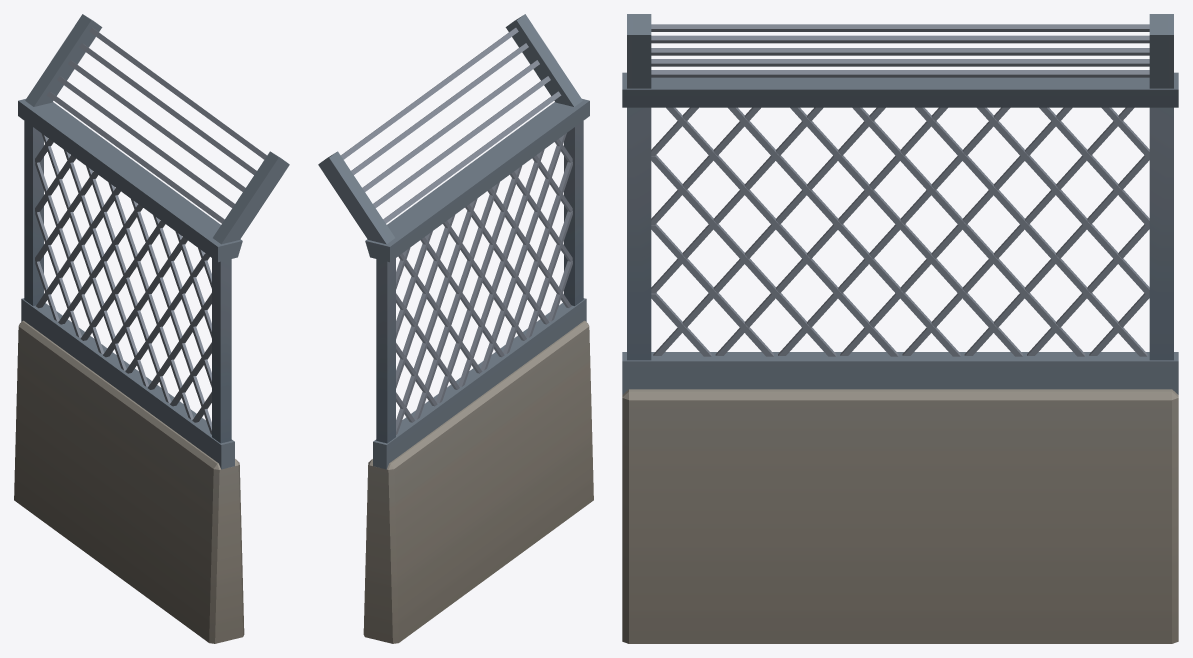
The model's file is Fence_6_2_A.fbx.
3 views of the same model, side by side, from view 1: azimuth 30°, elevation 25°; view 2: azimuth 150°, elevation 25°; view 3: azimuth 270°, elevation 25° (orthographic). The views are drawn at different scales.
Visible parts, largest first — view 1: Fence_6_2_A; view 2: Fence_6_2_A; view 3: Fence_6_2_A.
Part boxes in pixels (left/top/right/bottom): Fence_6_2_A: left=14, top=14, right=289, bottom=643; Fence_6_2_A: left=318, top=14, right=593, bottom=643; Fence_6_2_A: left=622, top=14, right=1178, bottom=643.
Bounding box in the file's own units: 69.53 × 388 × 300.
